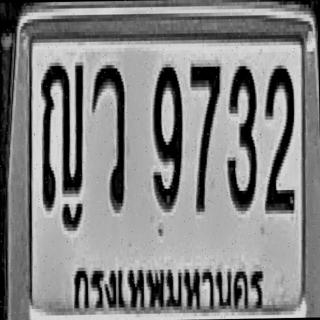A13: (39, 59, 85, 211)
A37: (90, 61, 126, 210)
N02: (262, 62, 296, 214)
N03: (225, 62, 258, 211)
N07: (190, 61, 222, 213)
N09: (151, 64, 183, 209)
P04: (67, 250, 270, 320)
